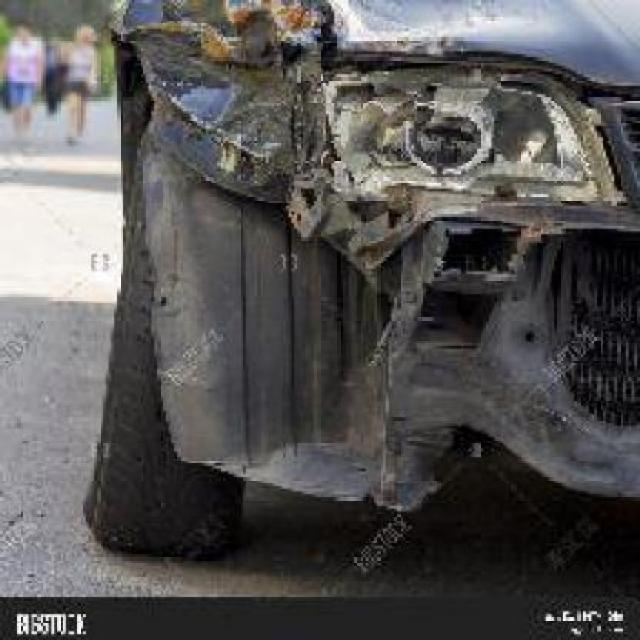damaged-head-light: (307, 56, 624, 213)
